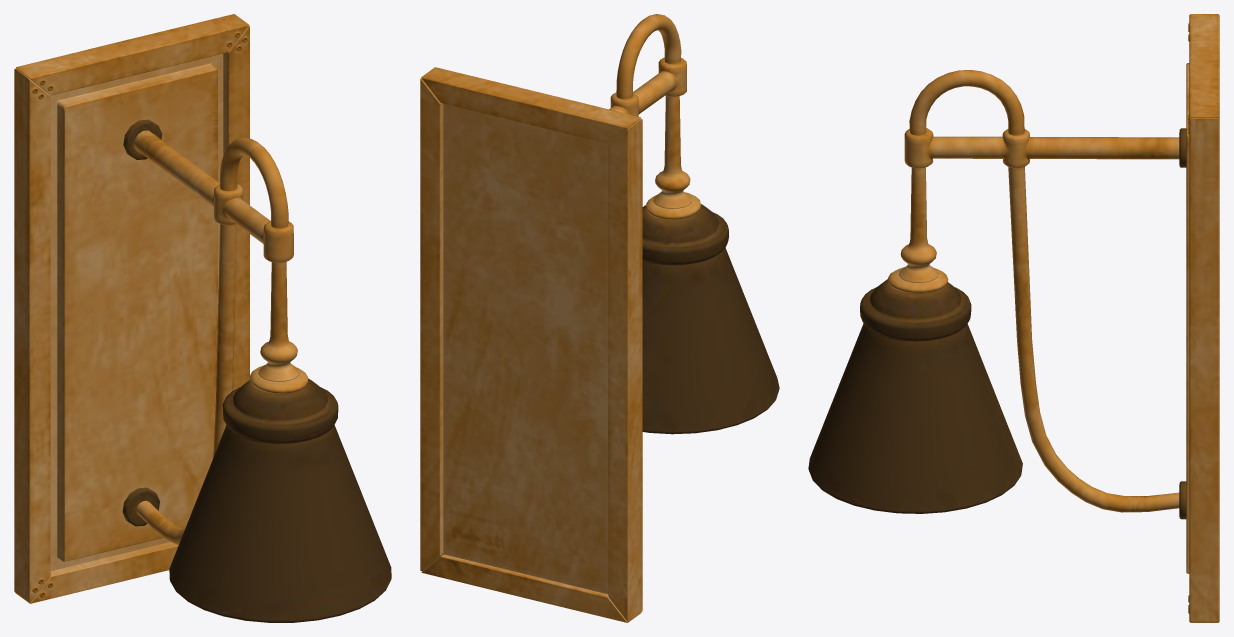
The model's file is nyb_bramford_sconce.glb.
3 renders of one model, left to right at view 1: azimuth 30°, elevation 25°; view 2: azimuth 150°, elevation 25°; view 3: azimuth 270°, elevation 25°, orthographic. The views are drawn at different scales.
Visible parts, largest first — view 1: industrial_wall_sconce; view 2: industrial_wall_sconce; view 3: industrial_wall_sconce.
Boxes of the visible parts, box(x1,y1,x2,y2) form: industrial_wall_sconce: box(14, 14, 391, 622); industrial_wall_sconce: box(420, 14, 779, 622); industrial_wall_sconce: box(808, 14, 1219, 622).
Bounding box in the file's own units: 0.1504 × 0.3418 × 0.2516.
2 materials, 2 textured.
